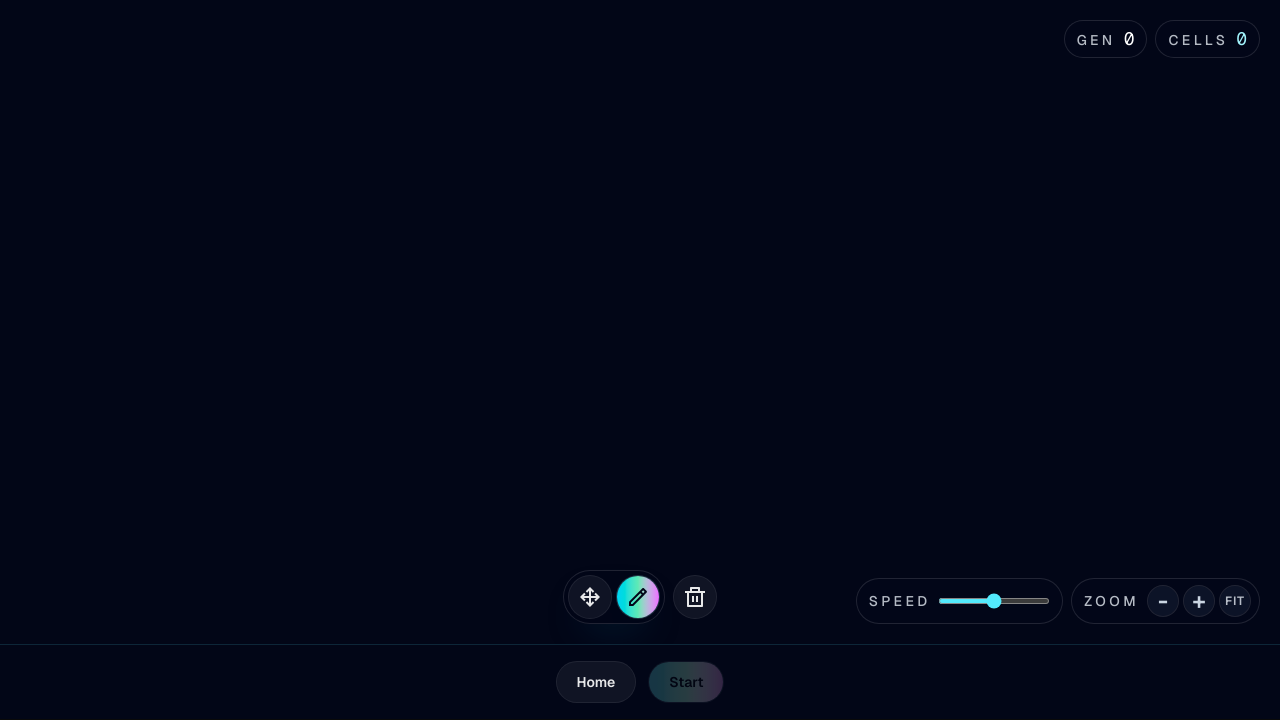
Scenario: GameOfLifeSession › shows Playground reset only after the first start and restores that state
Expected: the button "Reset" is not shown
Press the mouse on the drawing at (640, 322), box [4,4,1276,640]
(page scrolled)
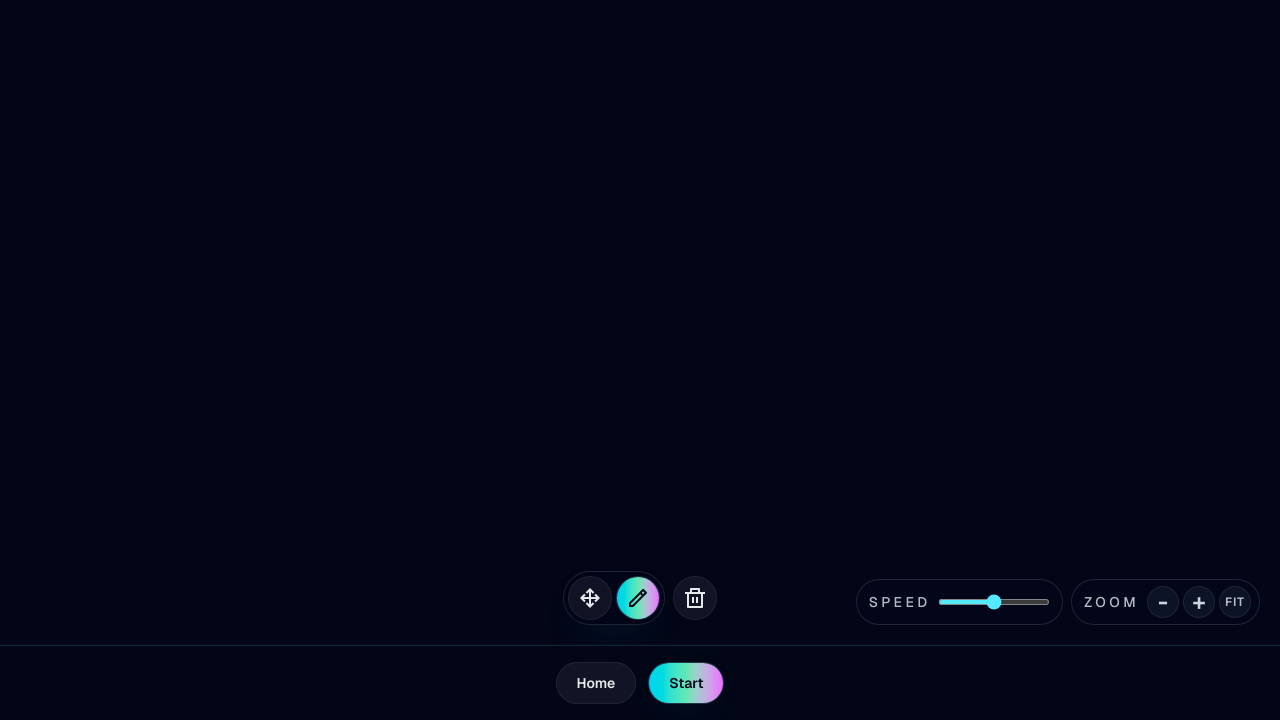
Expected: the button "Start" is enabled
Click the button "Start" at (686, 683), box [648,662,724,704]
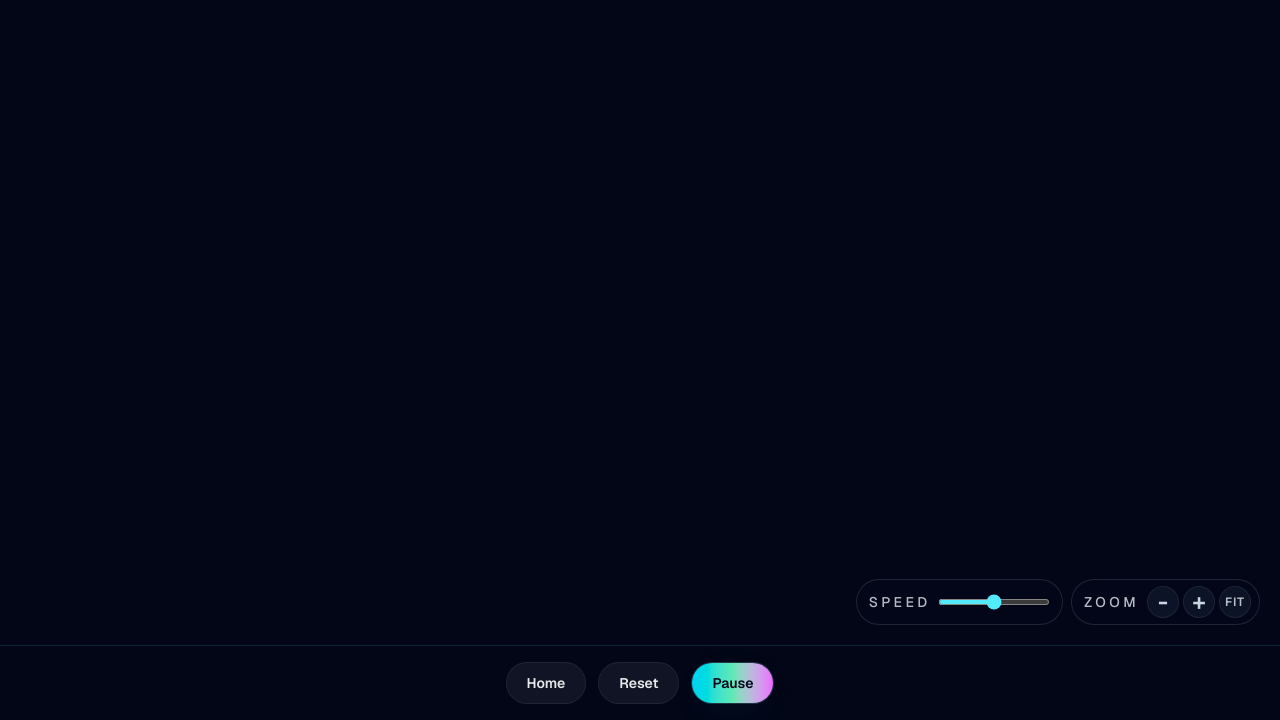
Expected: the button "Pause" is shown, [691,662,774,704]
Expected: the button "Reset" is shown
Click the button "Reset" at (639, 683), box [598,662,679,704]
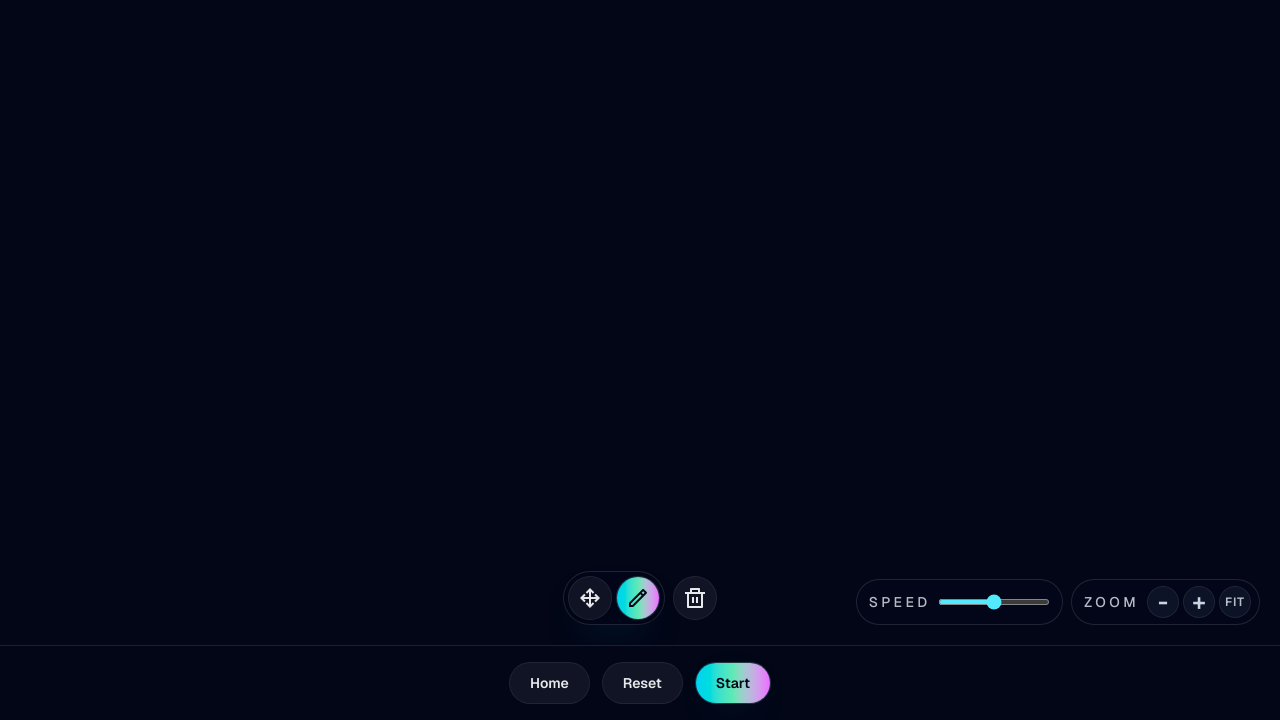
Expected: the button "Reset" is shown, [602,662,683,704]
Expected: the button "Start" is enabled, [695,662,771,704]
Expected: the button named "Clear cells" is enabled, [673,576,717,620]
